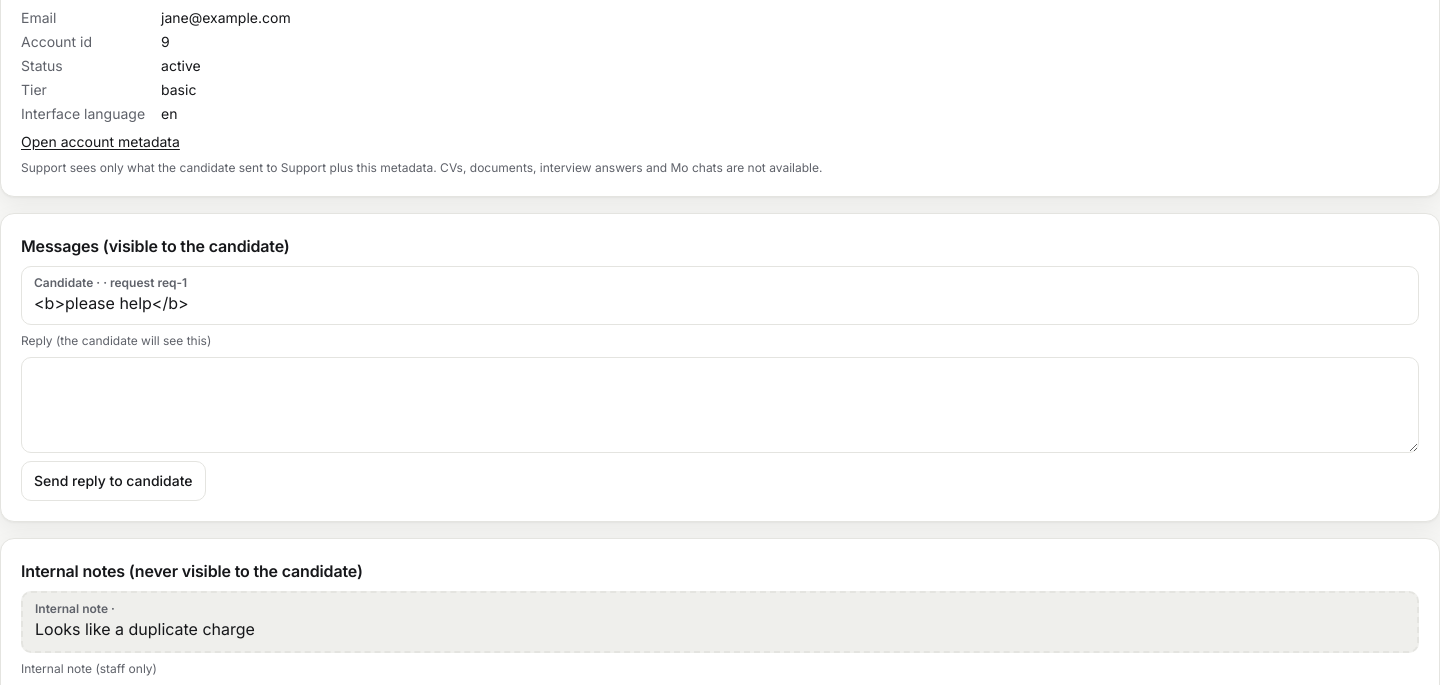
Test: Support ticket detail › a failed reply shows an alert, keeps the text and is not retried
This screenshot has width=1440, height=685.
(page scrolled)
Type "hello" into the text box labelled "Reply (the candidate will see this)" at (720, 405), box x1=21 y1=357 x2=1419 y2=453
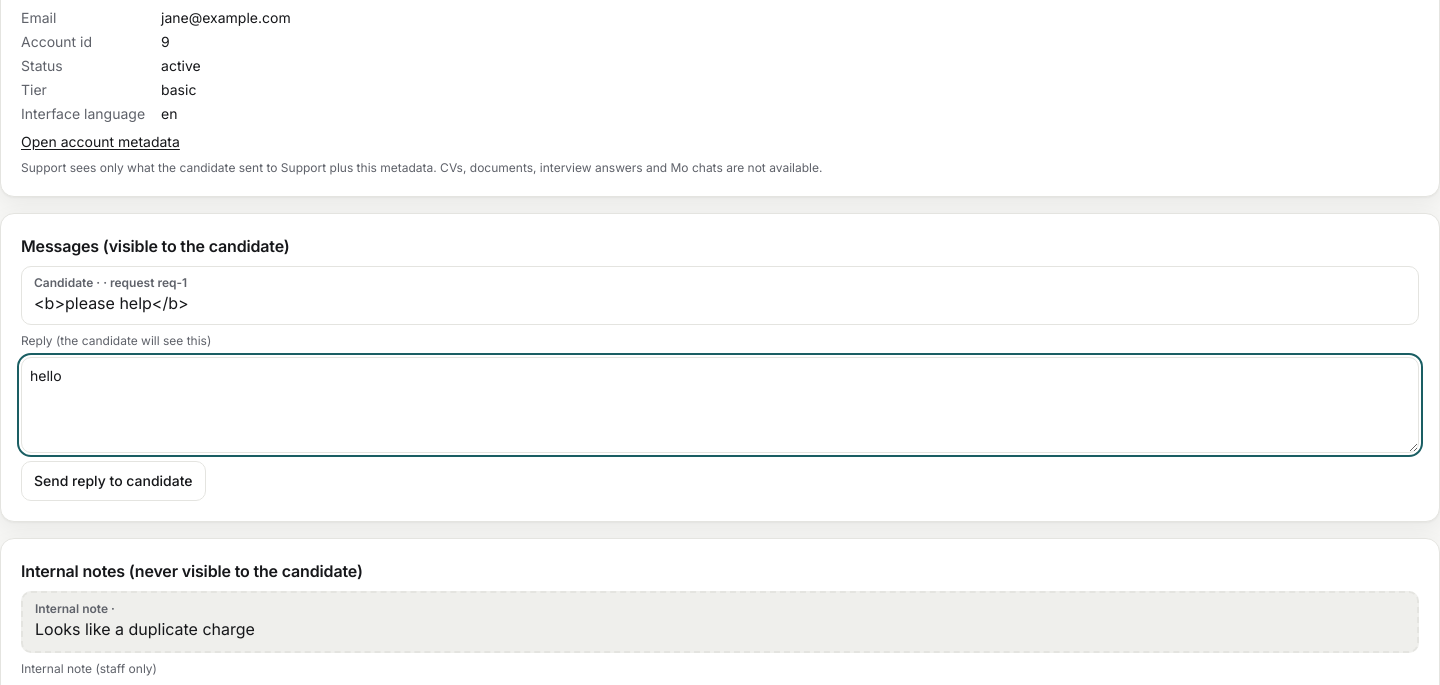
Click the button "Send reply to candidate" at (113, 481), box x1=21 y1=461 x2=206 y2=501
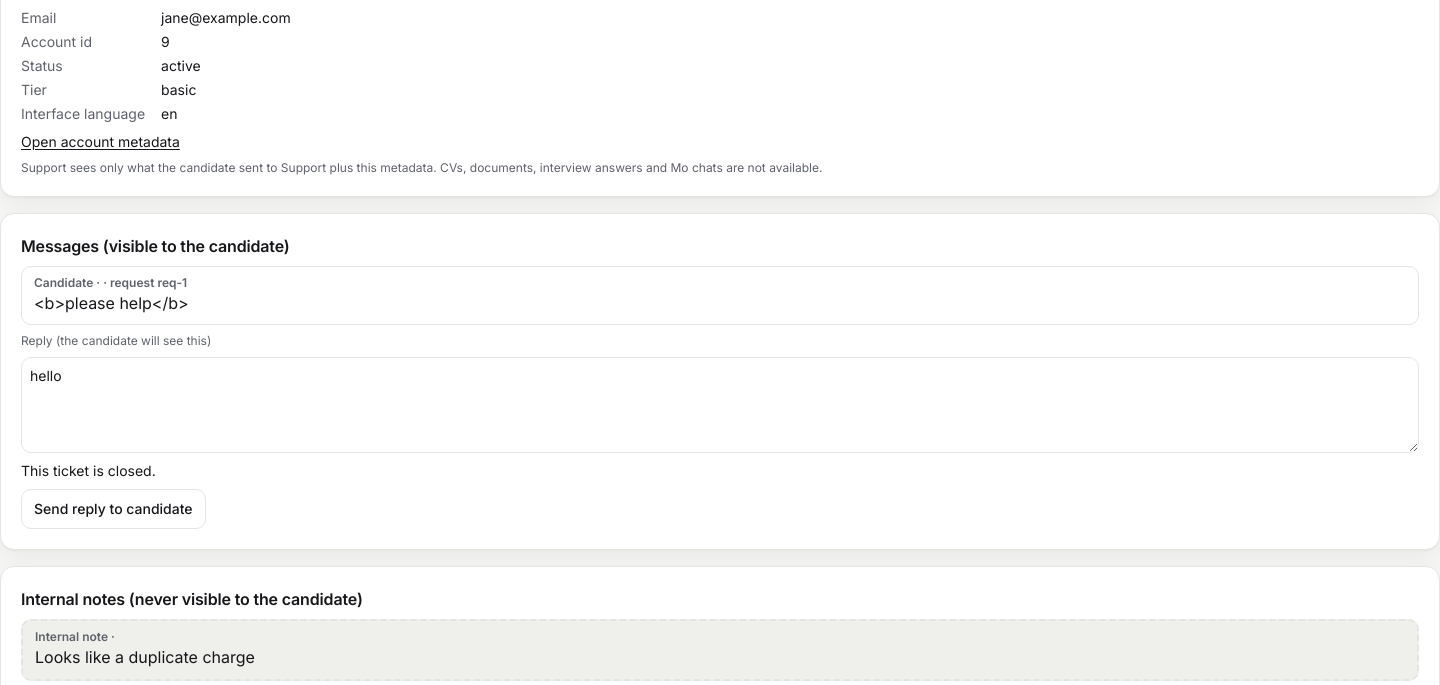
Check: the message reads "This ticket is closed.", box x1=21 y1=462 x2=156 y2=479
